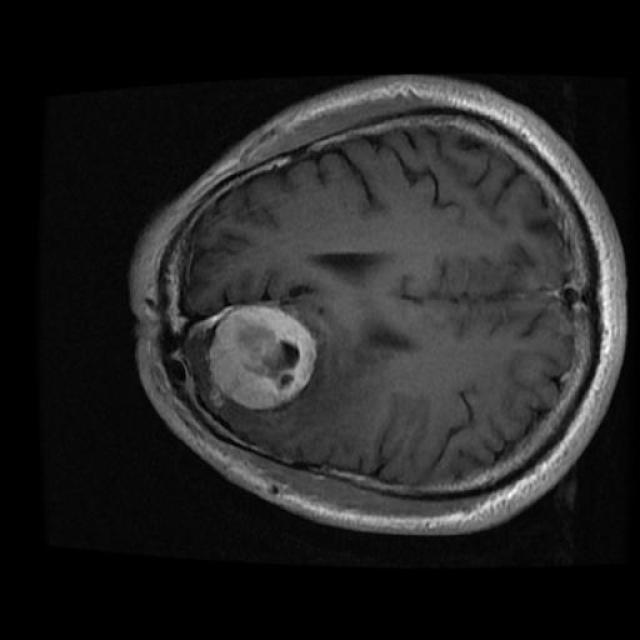Meningioma: (209, 306, 316, 410)
